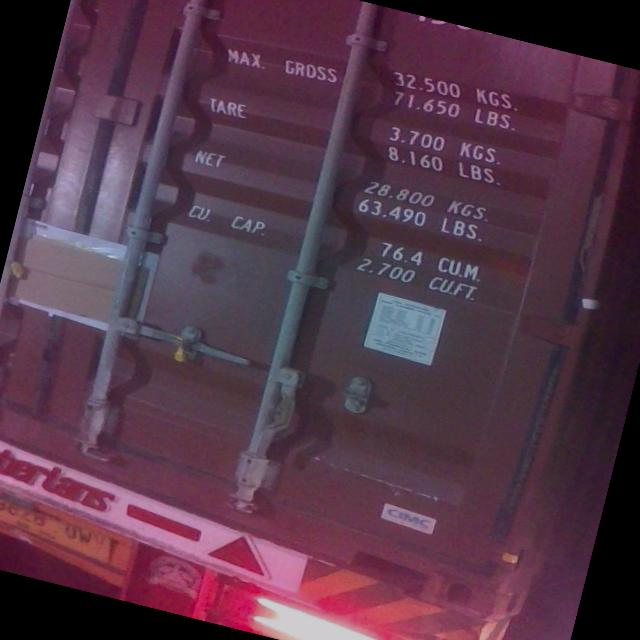seal: (164, 328, 199, 366)
